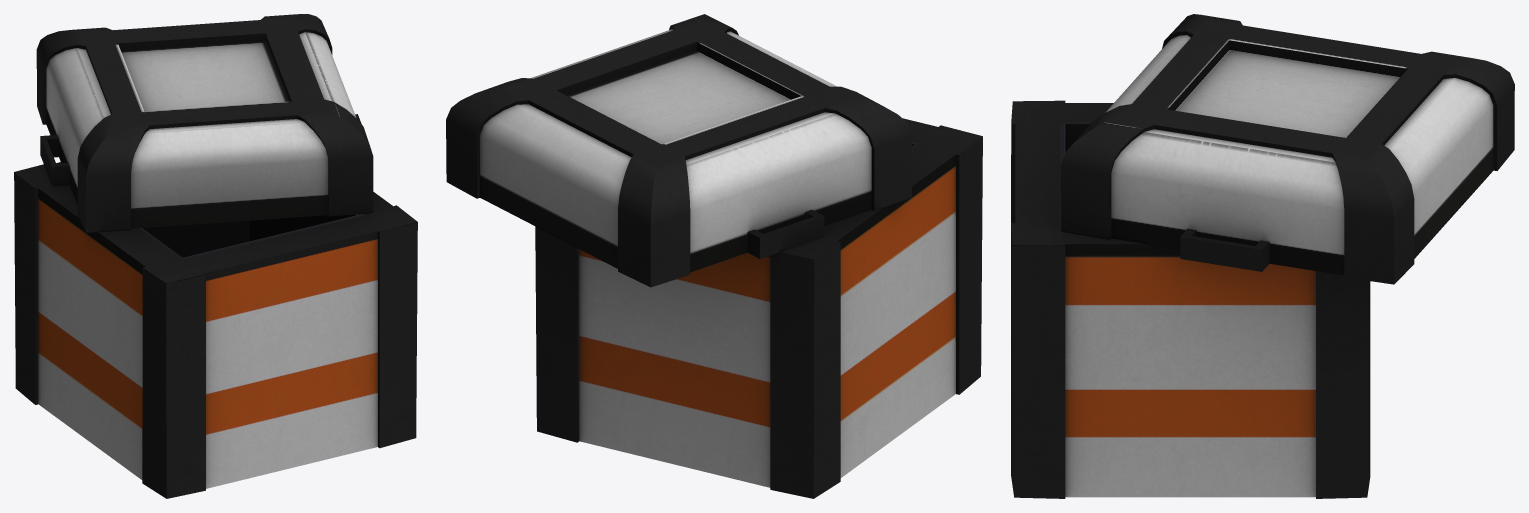
The model's file is CrateOpen.fbx.
3 views of the same model, side by side, from view 1: azimuth 30°, elevation 25°; view 2: azimuth 150°, elevation 25°; view 3: azimuth 270°, elevation 25° (orthographic). The views are drawn at different scales.
Visible parts, largest first — view 1: Crate; view 2: Crate; view 3: Crate.
Boxes of the visible parts, x1=… form: Crate: x1=14, y1=14, x2=417, y2=498; Crate: x1=446, y1=14, x2=982, y2=498; Crate: x1=1011, y1=14, x2=1514, y2=498.
Size of the model in its own units: 1.71 by 1.51 by 1.94.
